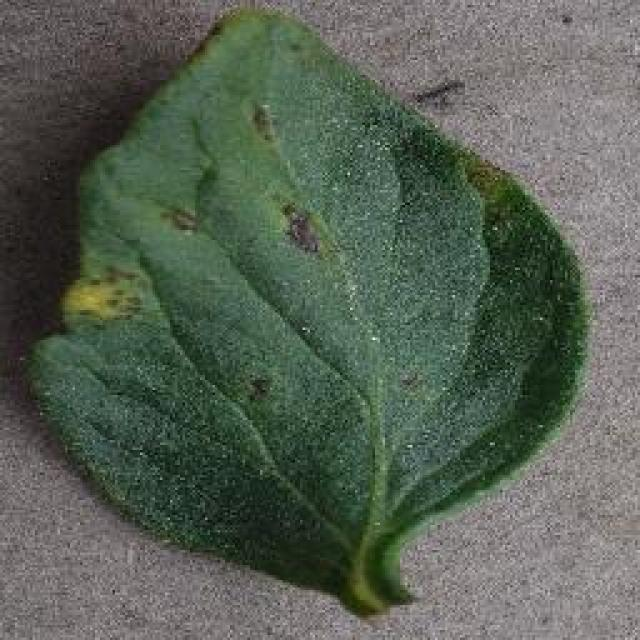Tomato bacterial spot leaf: (32, 0, 588, 600)
